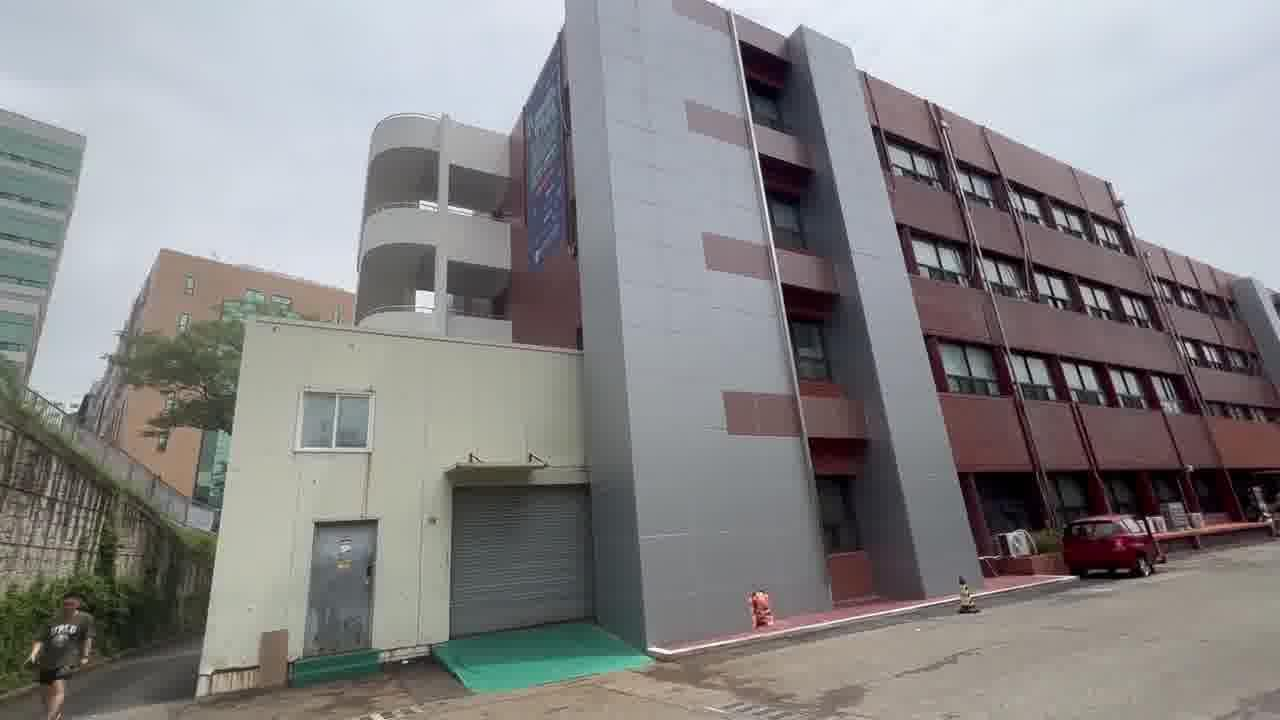building: (607, 19, 1250, 512)
